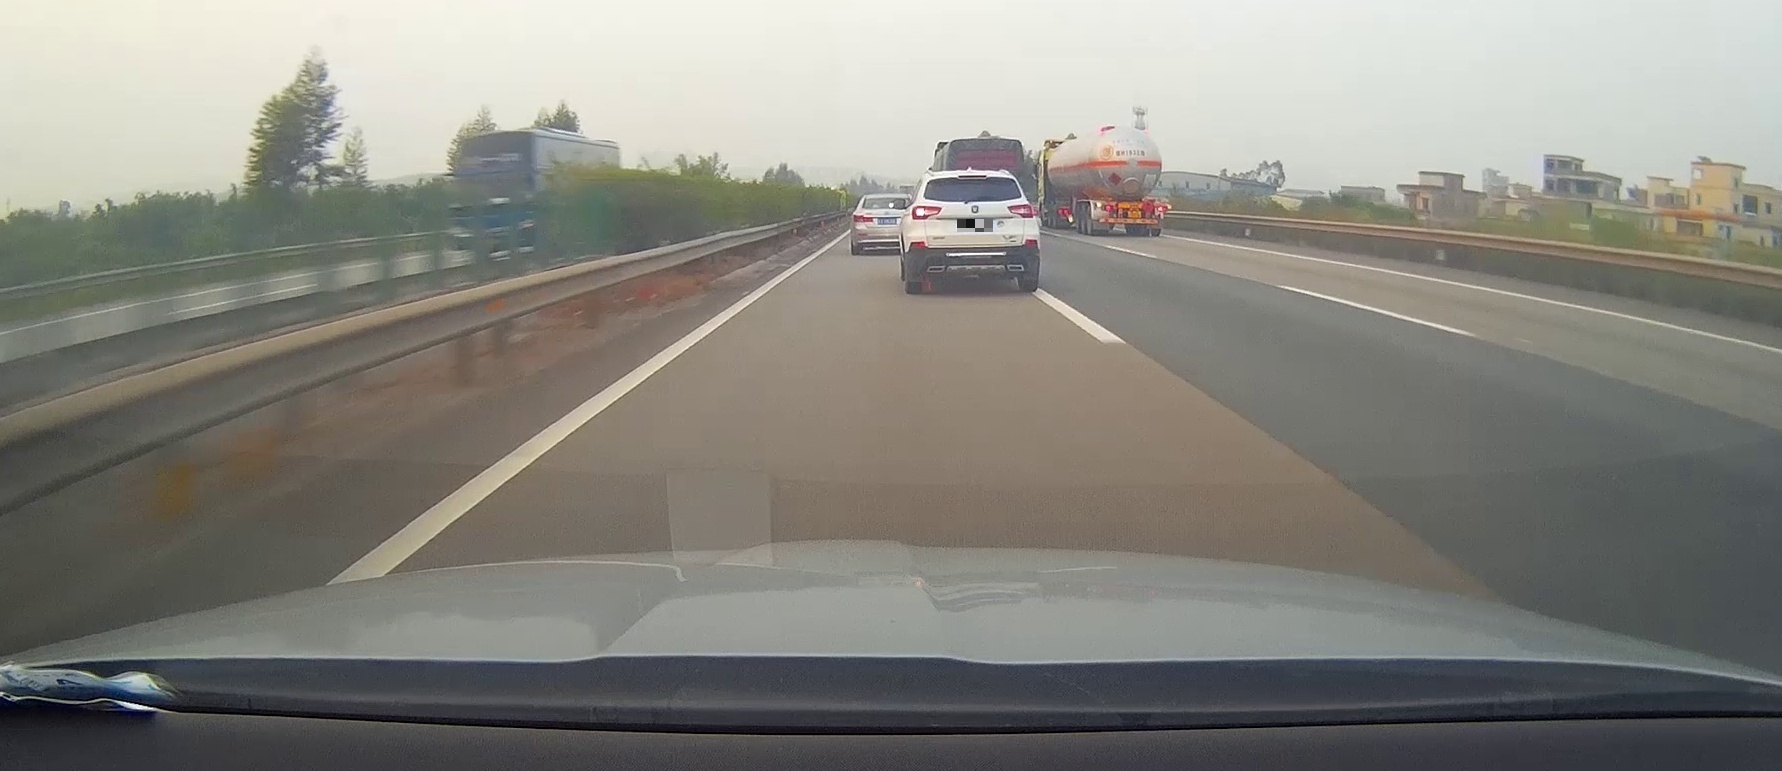L_light: (911, 205, 942, 219), (1101, 205, 1114, 212)
R_light: (1007, 204, 1033, 219), (1154, 205, 1167, 212)
T_light: (957, 174, 988, 179), (1129, 201, 1140, 205)
day-left: (904, 171, 1041, 295)
day-no: (1090, 196, 1172, 237)
plate_1: (957, 219, 993, 232)
